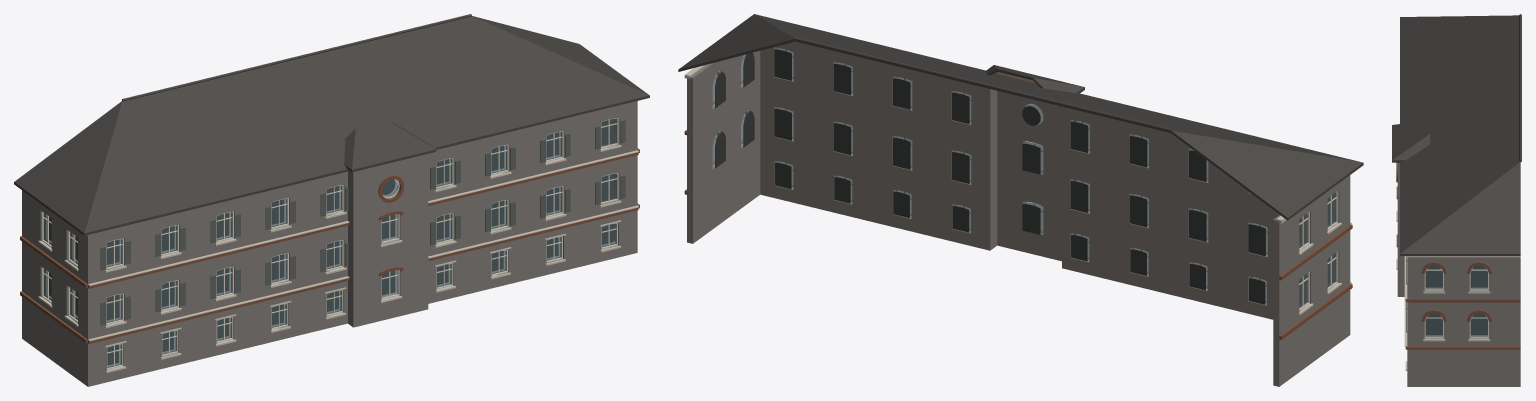
File: lod-source.glb
3 views of the same model, side by side, from view 1: azimuth 30°, elevation 25°; view 2: azimuth 150°, elevation 25°; view 3: azimuth 270°, elevation 25° (orthographic). The views are drawn at different scales.
Parts seen in each view (by area): view 1: 圣约翰大学思孟堂43号楼临河窗墙; view 2: 圣约翰大学思孟堂43号楼临河窗墙; view 3: 圣约翰大学思孟堂43号楼临河窗墙.
Boxes of the visible parts, x1=… form: 圣约翰大学思孟堂43号楼临河窗墙: x1=14, y1=14, x2=649, y2=386; 圣约翰大学思孟堂43号楼临河窗墙: x1=678, y1=14, x2=1363, y2=386; 圣约翰大学思孟堂43号楼临河窗墙: x1=1392, y1=14, x2=1521, y2=386.
Bounding box in the file's own units: 38.73 × 14.08 × 8.96.
